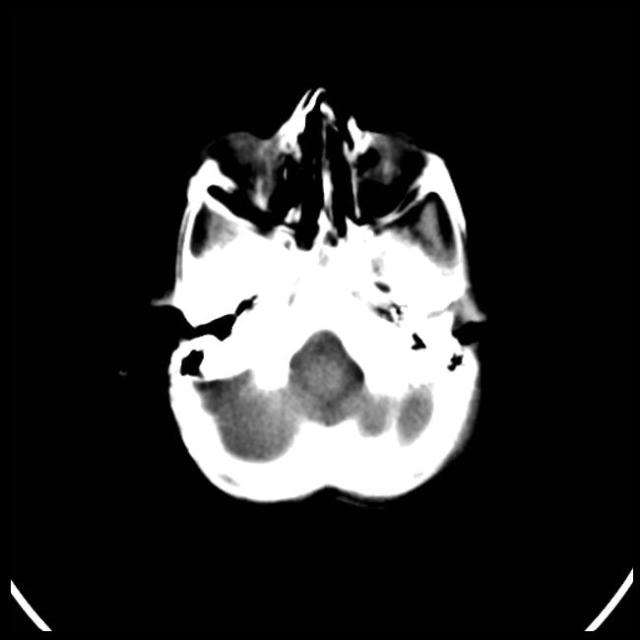lesion: (146, 82, 493, 509)
